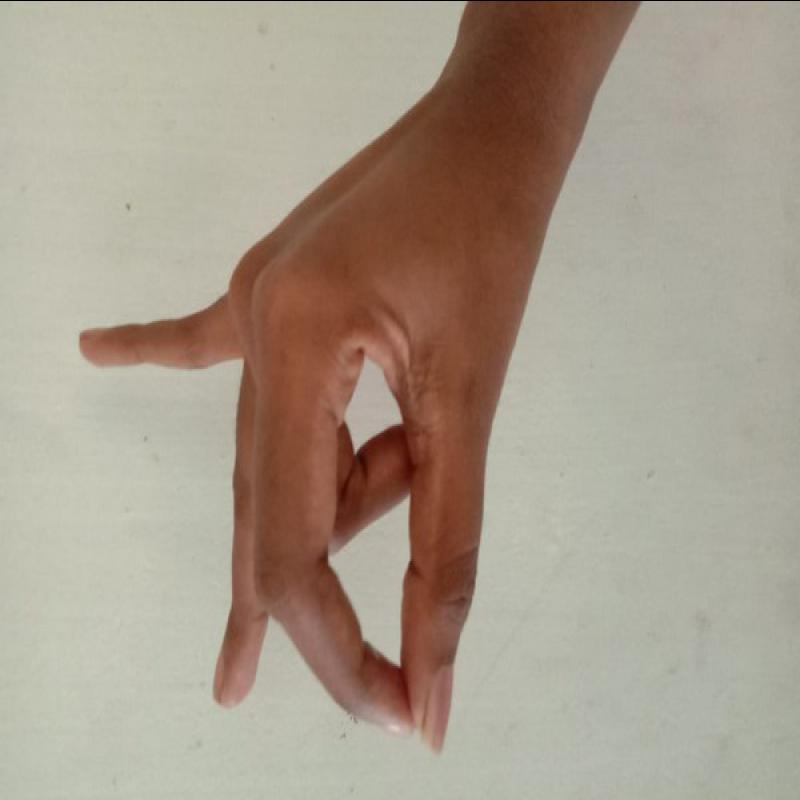Katakam: (67, 102, 613, 764)
